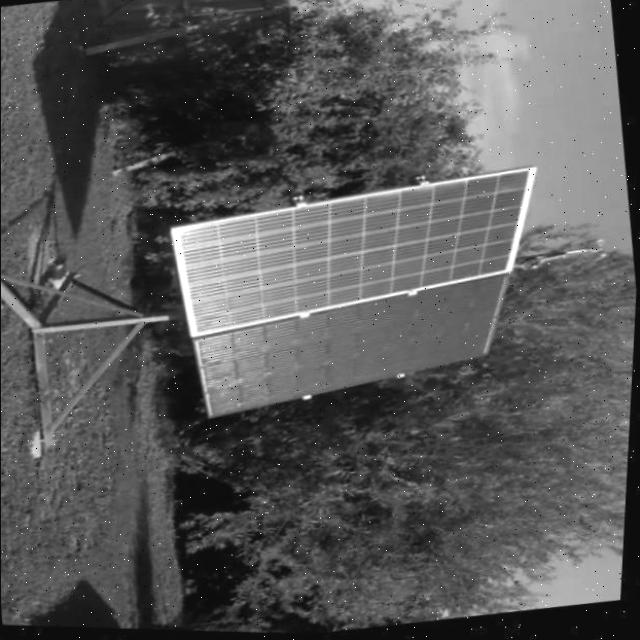Normal Solar Panel: (160, 158, 566, 432), (190, 268, 526, 428)
